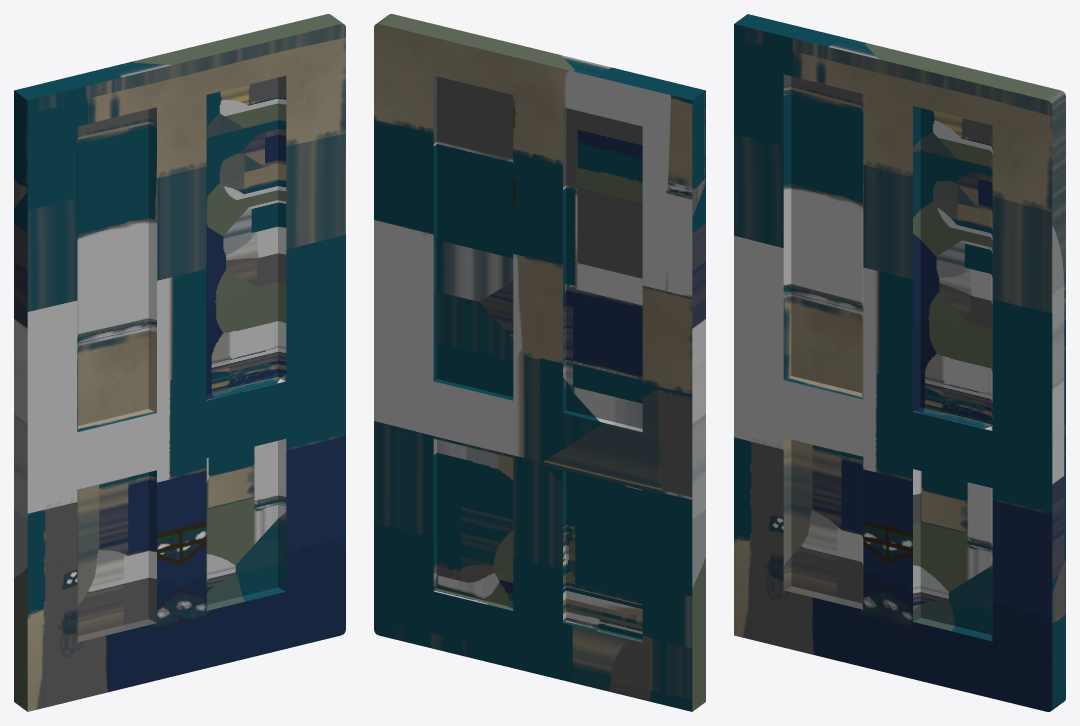
The model's file is FrontDoor.fbx.
3 views of the same model, side by side, from view 1: azimuth 30°, elevation 25°; view 2: azimuth 150°, elevation 25°; view 3: azimuth 330°, elevation 25° (orthographic).
Parts seen in each view (by area): view 1: WoodenDoor:pCube2; view 2: WoodenDoor:pCube2; view 3: WoodenDoor:pCube2.
Boxes of the visible parts, bbox=[...] form: WoodenDoor:pCube2: bbox=[14, 14, 345, 711]; WoodenDoor:pCube2: bbox=[374, 14, 705, 711]; WoodenDoor:pCube2: bbox=[734, 14, 1065, 711].
Bounding box in the file's own units: 3.54 × 6.5 × 0.2634.
